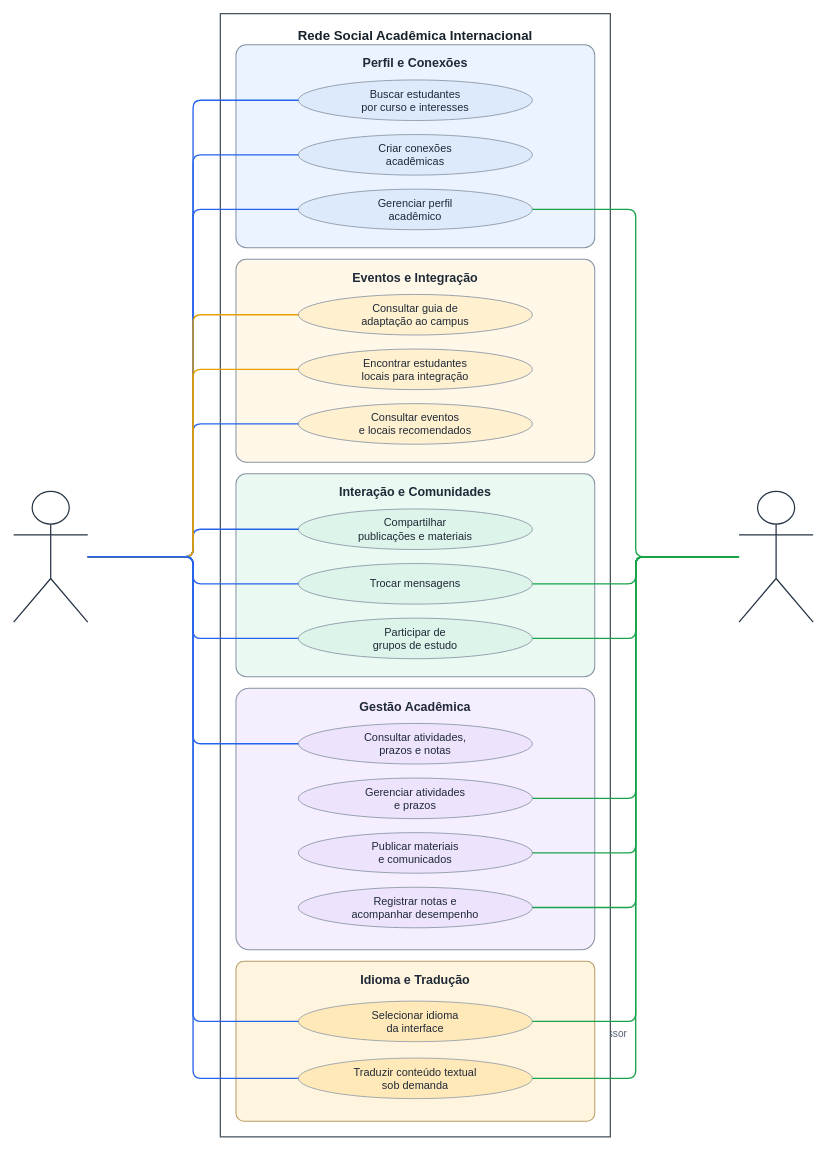
Image size: 828x1151. Some labels were removed from this diagram. The shapes that lost their labels are listed below. From the top down, each one's centre as x and y in pixels, then its label:
the point at 50,556: Estudante
the point at 775,556: Professor
